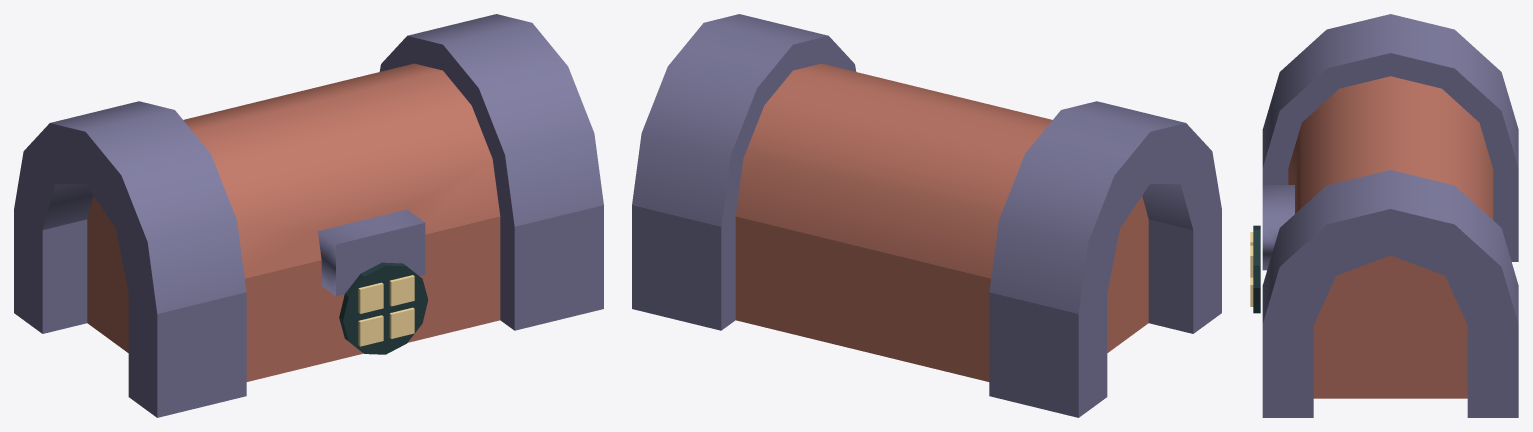
Rendered from arcade.glb.
3 renders of one model, left to right at view 1: azimuth 30°, elevation 25°; view 2: azimuth 150°, elevation 25°; view 3: azimuth 270°, elevation 25°, orthographic. The views are drawn at different scales.
Visible parts, largest first — view 1: lid, chest, category badge, emblem, emblem.001, emblem.003, emblem.002; view 2: lid, chest; view 3: lid, chest, category badge.
Boxes of the visible parts, <box> form: lid: <box>14,14,603,313</box>; chest: <box>14,205,603,417</box>; category badge: <box>339,262,428,354</box>; emblem: <box>358,315,383,346</box>; emblem.001: <box>389,307,414,338</box>; emblem.003: <box>389,275,414,306</box>; emblem.002: <box>358,282,383,313</box>; lid: <box>632,14,1221,313</box>; chest: <box>632,205,1221,417</box>; lid: <box>1262,14,1518,324</box>; chest: <box>1262,169,1518,417</box>; category badge: <box>1253,225,1260,313</box>.
Bounding box in the file's own units: 2.29 × 1.15 × 1.34.
